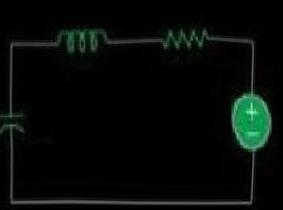Battery: (224, 87, 274, 154)
